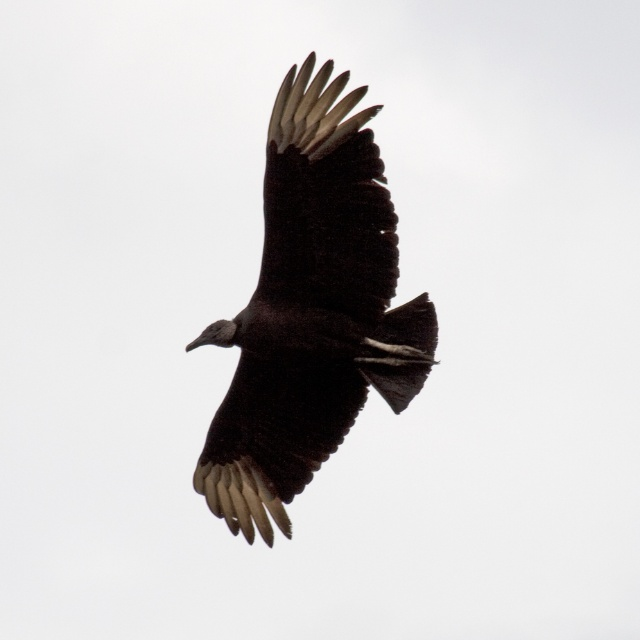Eagle: (181, 48, 448, 552)
